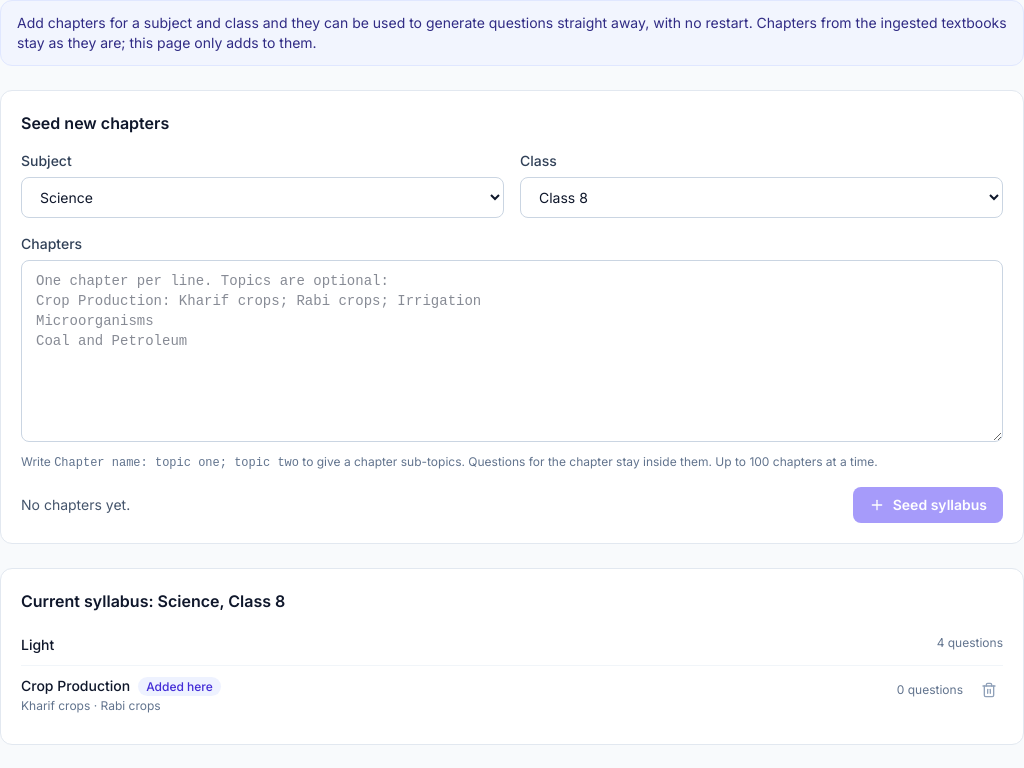
SyllabusPage › keeps Seed syllabus disabled until there is a chapter
Check: the button "Seed syllabus" is disabled, box x1=853 y1=487 x2=1003 y2=523
Click the text box labelled "Chapters" at (512, 351), box x1=21 y1=260 x2=1003 y2=442
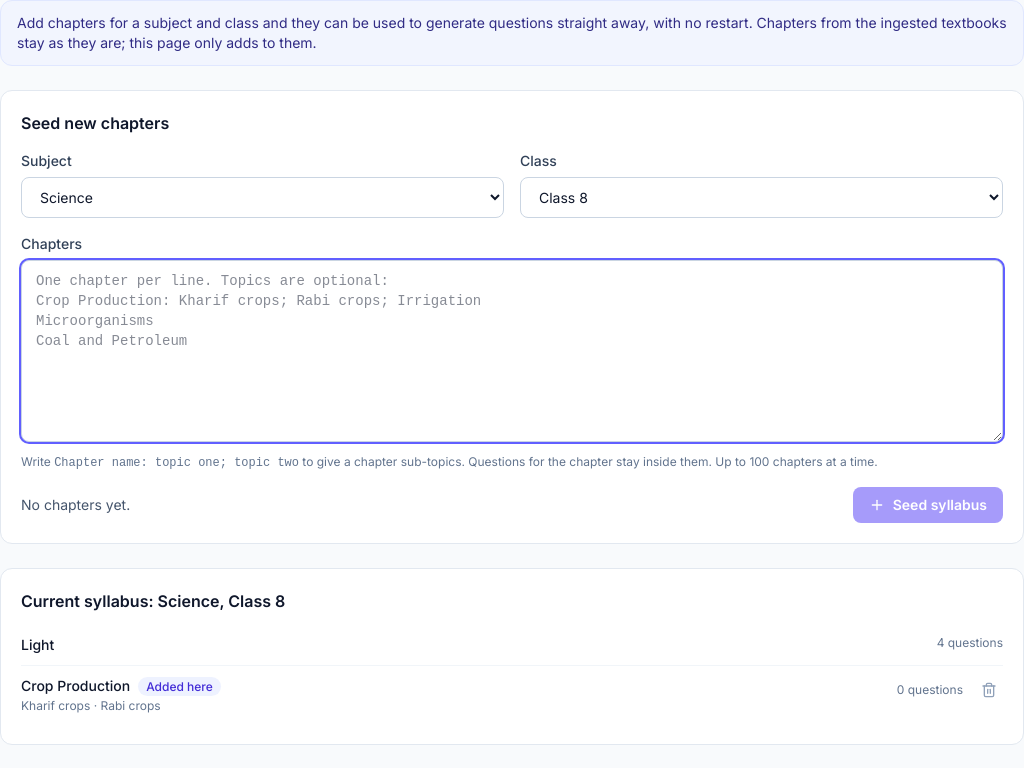
Type keys "Microorganisms"
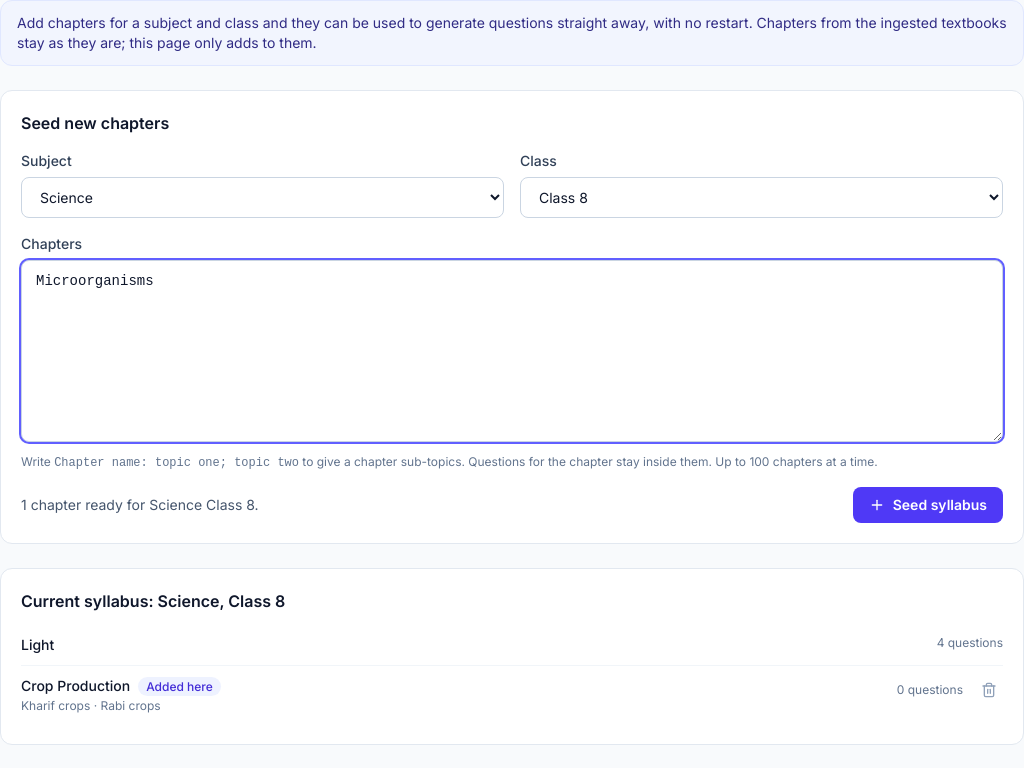
Check: the button "Seed syllabus" is enabled, box x1=853 y1=487 x2=1003 y2=523
Check: the text "1 chapter ready for Science Class 8." is shown, box x1=21 y1=495 x2=259 y2=515
